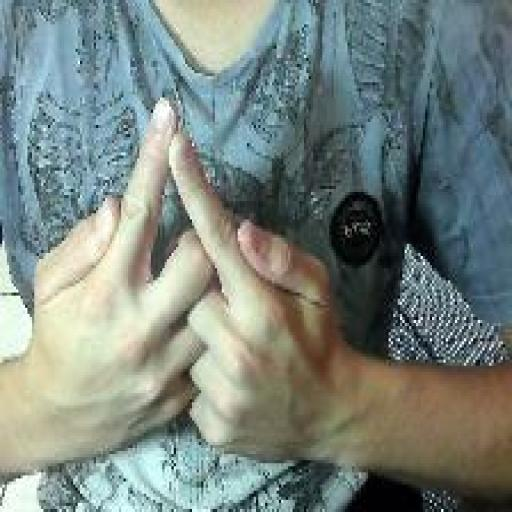Uma -horse-: (26, 92, 337, 476)
